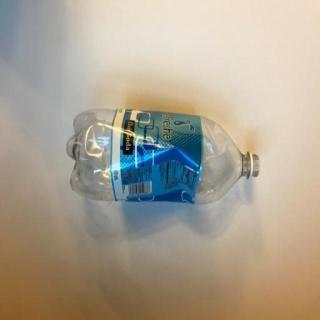Anorganik: (66, 102, 266, 212)
